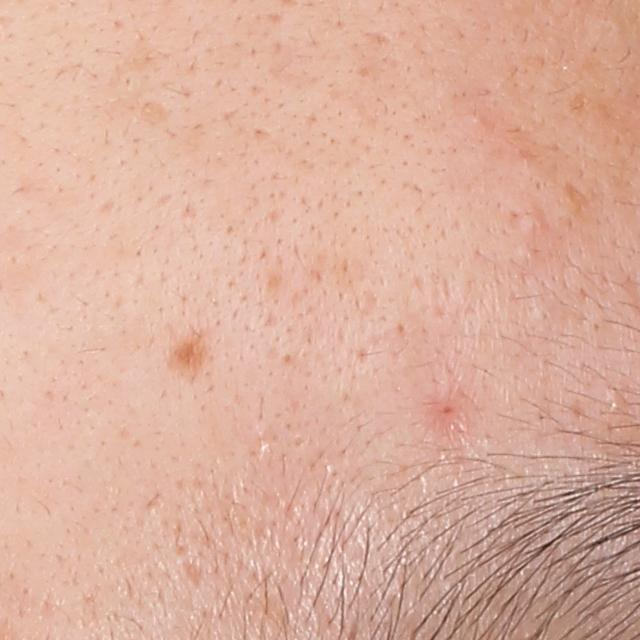atrophic_scar: (177, 557, 206, 589), (139, 101, 172, 129)
